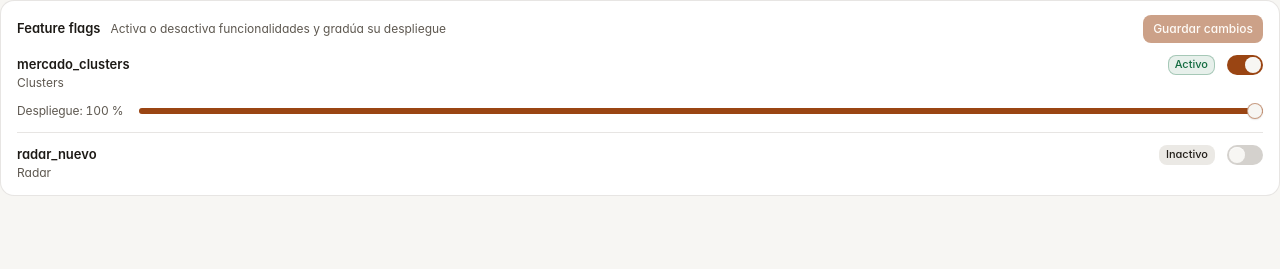
Test: FeatureFlagsCard › volver al valor original deja de contar como cambio
The image size is (1280, 269).
Click the switch named "Activar radar_nuevo" at (1245, 155), box [1227,145,1263,165]
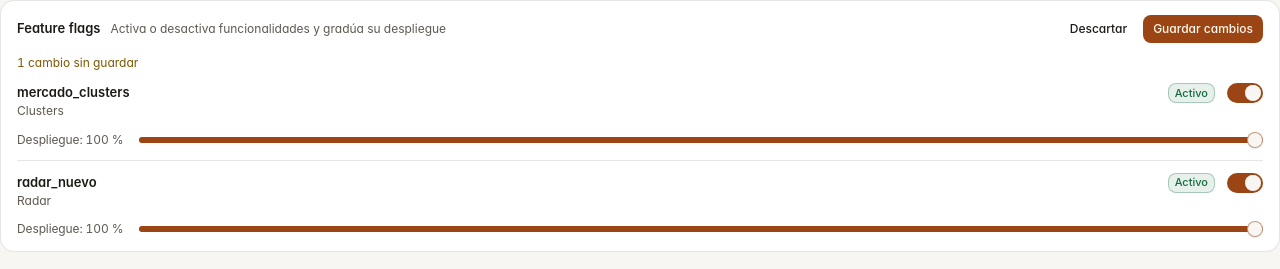
Click the switch named "Activar radar_nuevo" at (1245, 183), box [1227,173,1263,193]
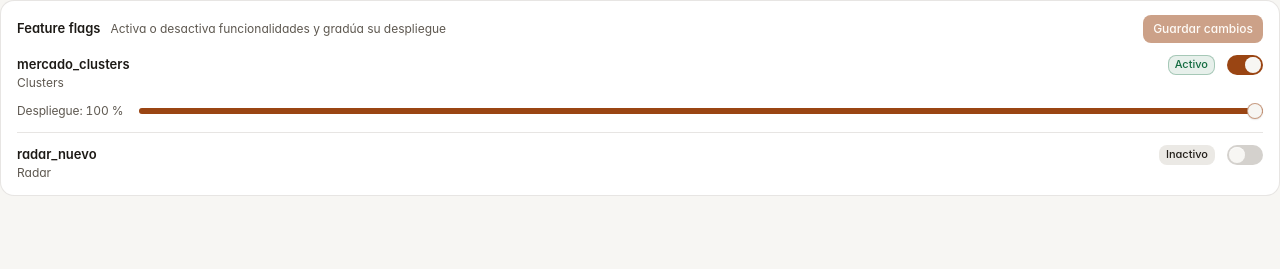
Check: the button "Guardar cambios" is disabled, box [1143,15,1263,43]
